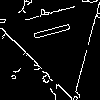I: (32, 17, 80, 43)
